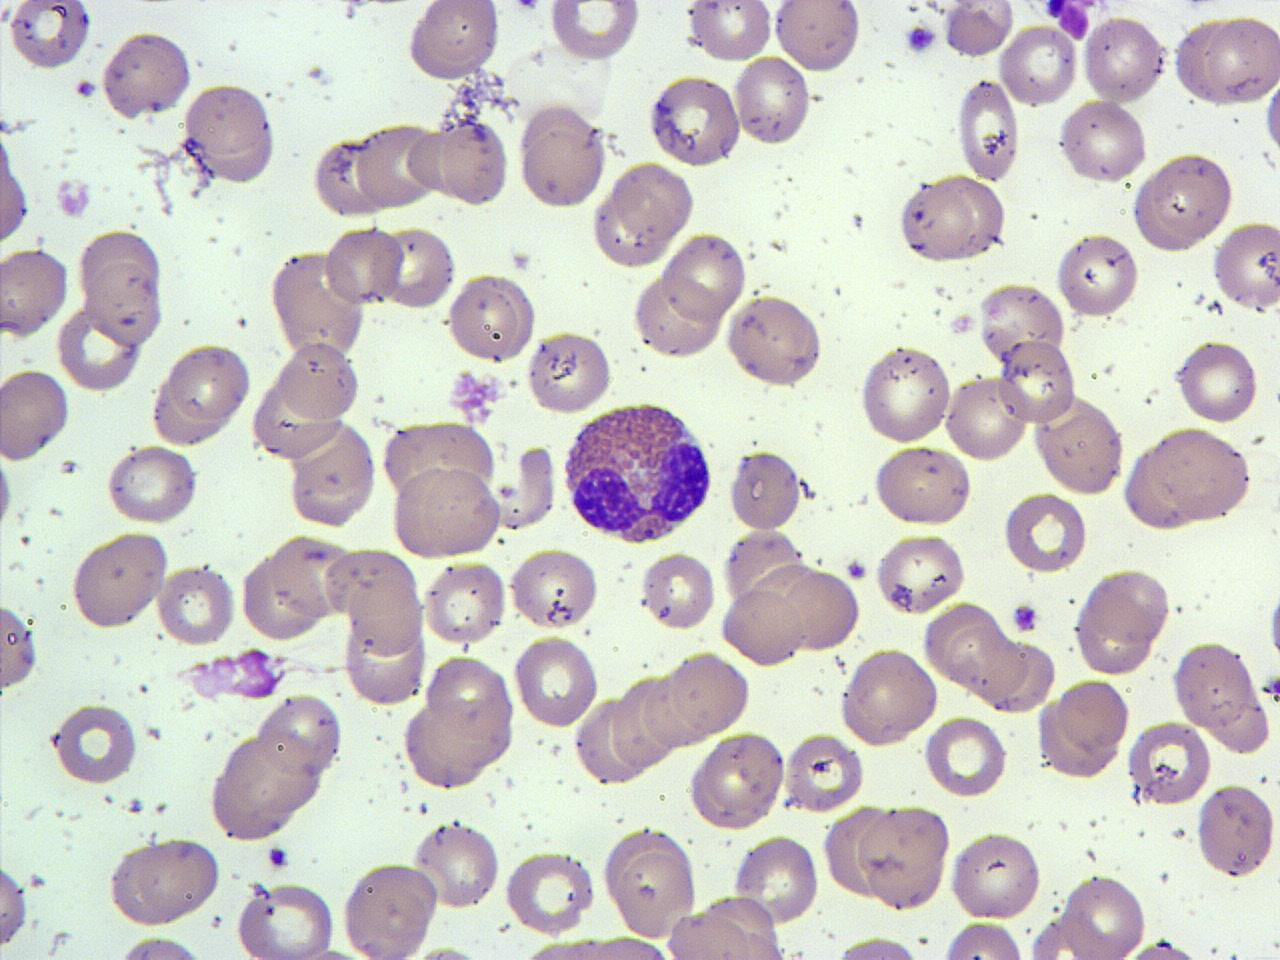Platelets: (1051, 2, 1093, 41), (54, 179, 91, 219), (1265, 586, 1280, 670), (1008, 600, 1041, 636), (902, 22, 938, 55), (947, 312, 979, 338), (72, 78, 99, 101), (1258, 672, 1280, 699), (1042, 1, 1070, 22), (265, 844, 289, 868), (844, 558, 868, 582), (508, 0, 544, 15), (341, 2, 364, 21), (127, 796, 145, 816), (1128, 781, 1140, 802), (498, 481, 512, 498)
RBC: (207, 734, 326, 843), (1139, 424, 1257, 527), (399, 688, 512, 792), (387, 413, 499, 516), (600, 822, 699, 938), (388, 465, 504, 562), (106, 834, 222, 930), (269, 248, 368, 360), (1131, 151, 1237, 252), (839, 645, 942, 748), (856, 802, 950, 914), (688, 729, 788, 832), (67, 532, 170, 632), (516, 100, 607, 212), (79, 233, 167, 348), (285, 420, 376, 530), (339, 860, 440, 958), (858, 343, 953, 446), (1032, 394, 1126, 498), (726, 292, 826, 389), (339, 546, 424, 659), (158, 341, 254, 440), (646, 71, 745, 167), (422, 652, 514, 751), (338, 608, 428, 708), (871, 443, 975, 529), (99, 28, 193, 123), (730, 831, 822, 927), (949, 828, 1044, 920), (250, 373, 345, 463), (511, 634, 601, 728), (235, 878, 339, 959), (103, 442, 202, 527), (502, 847, 596, 936), (1170, 638, 1260, 730), (446, 272, 536, 364), (1056, 98, 1150, 186), (872, 532, 970, 616), (411, 820, 501, 911), (634, 271, 726, 360), (660, 230, 748, 323), (1082, 13, 1168, 108), (1073, 567, 1171, 650), (405, 0, 503, 83), (55, 303, 143, 394), (943, 372, 1030, 464), (524, 329, 616, 416), (1172, 337, 1262, 425), (238, 550, 322, 644), (506, 546, 600, 630), (1195, 782, 1275, 880), (974, 281, 1066, 366), (1062, 872, 1150, 960), (1000, 488, 1088, 576), (732, 52, 812, 148), (667, 648, 752, 738), (181, 81, 275, 162), (1055, 231, 1141, 319), (922, 712, 1008, 800), (53, 700, 139, 788), (272, 532, 354, 624), (822, 802, 896, 902), (1126, 719, 1210, 807), (717, 584, 807, 666), (0, 364, 72, 466), (257, 692, 344, 776), (422, 559, 506, 646), (783, 728, 866, 816), (996, 23, 1080, 109), (276, 340, 363, 422), (156, 560, 237, 648), (610, 160, 696, 242), (358, 122, 437, 211), (996, 340, 1075, 429), (0, 242, 70, 342), (380, 223, 458, 312), (956, 77, 1022, 182), (772, 0, 863, 76), (782, 566, 862, 652), (310, 135, 392, 218), (322, 223, 403, 307), (590, 186, 670, 271), (725, 447, 805, 532), (1206, 13, 1278, 107), (574, 697, 648, 788), (896, 181, 977, 264), (1055, 676, 1131, 764), (932, 172, 1008, 259), (438, 117, 510, 208), (640, 549, 718, 633), (1171, 14, 1243, 104), (1211, 218, 1279, 312), (608, 675, 675, 769), (7, 0, 92, 73), (658, 910, 782, 960), (546, 1, 642, 61), (495, 442, 558, 532), (639, 669, 708, 750), (685, 0, 772, 64), (940, 0, 1014, 59), (0, 600, 39, 694), (938, 920, 1027, 960), (110, 932, 216, 960), (0, 854, 30, 952), (830, 933, 932, 960), (0, 160, 31, 244), (1119, 937, 1215, 960), (1263, 74, 1280, 159), (0, 455, 15, 532)
WBC: (555, 398, 720, 549), (208, 732, 326, 842), (150, 342, 254, 447)
